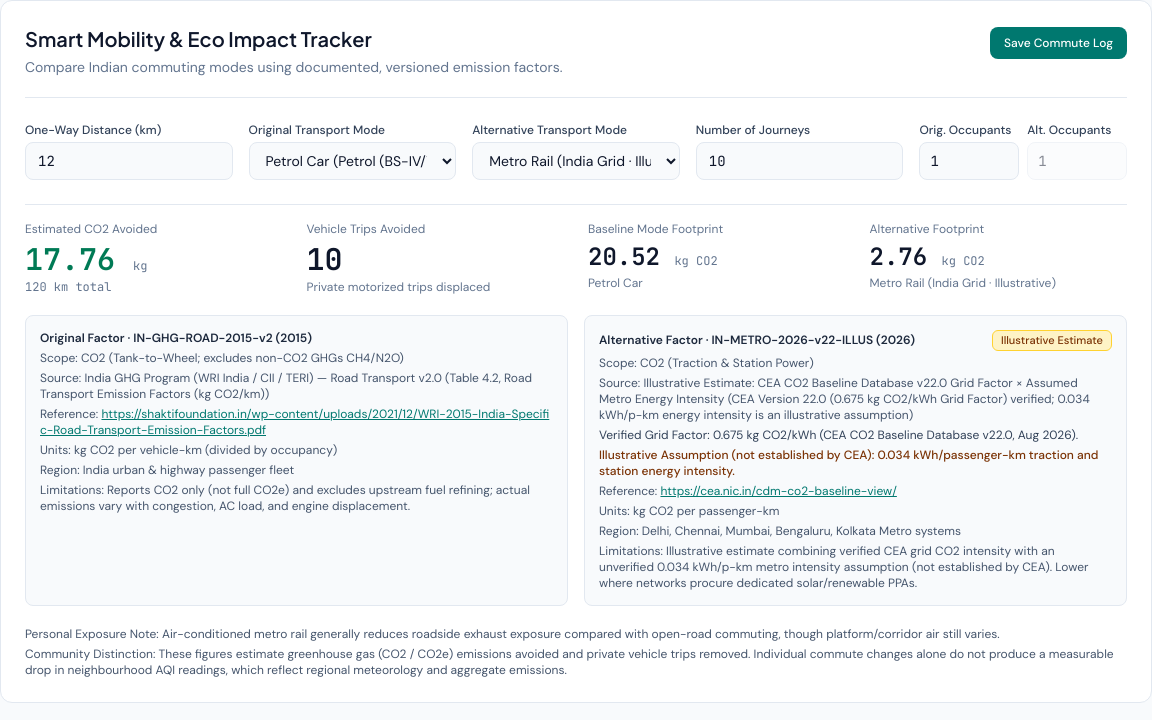
Test: EcoMobilityTracker interactions › saves the signed-in commute comparison and announces success
Replace the text in the number field labelled "One-Way Distance (km)" with "20" at (129, 161), box [25, 142, 233, 180]
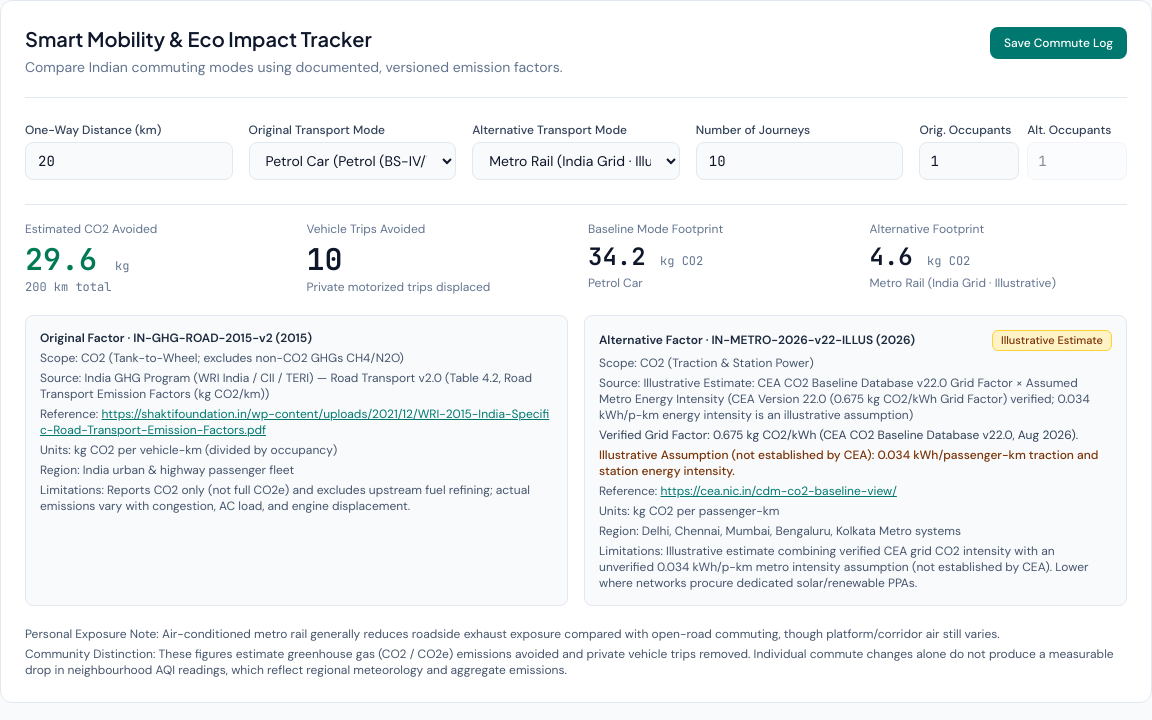
Replace the text in the number field labelled "Number of Journeys" with "2" at (800, 161), box [696, 142, 903, 180]
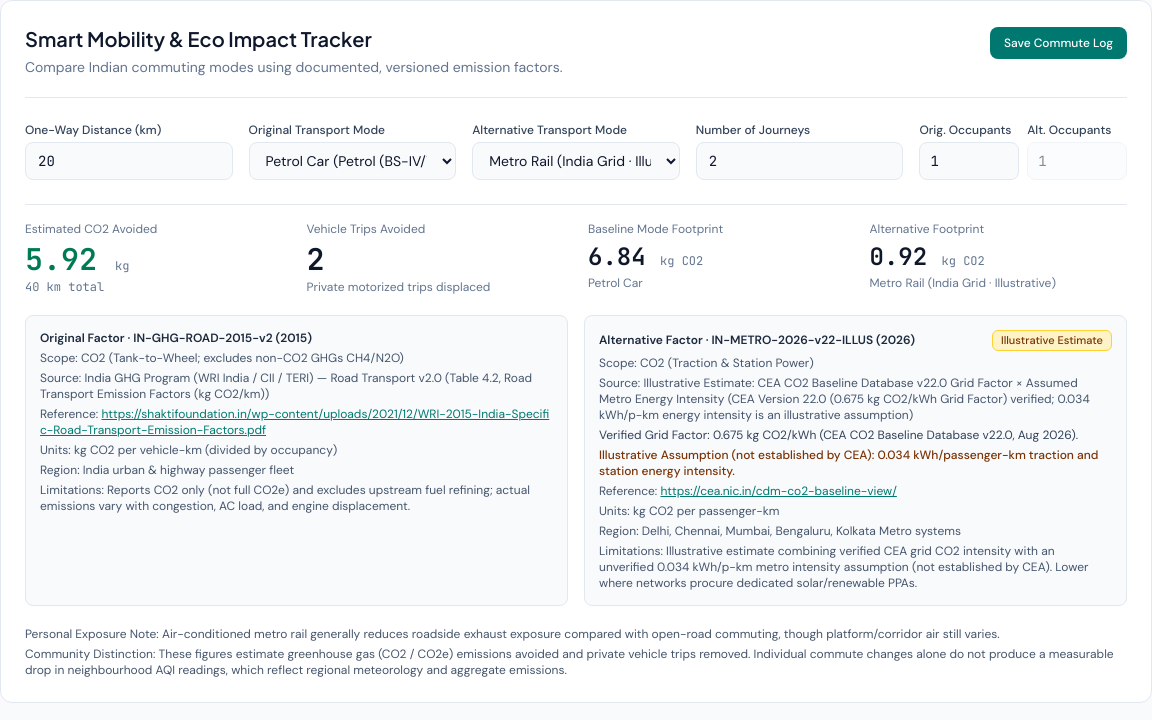
Click the button "Save Commute Log" at (1058, 43), box [990, 27, 1127, 59]
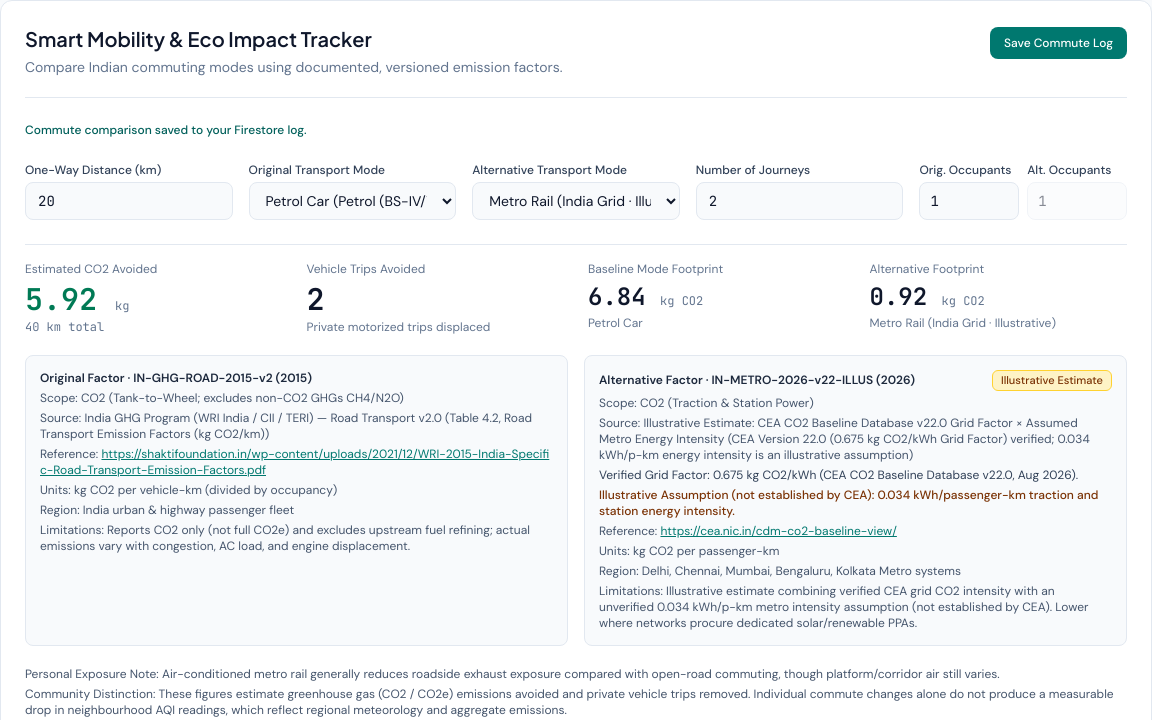
Result: the message reads "Commute comparison saved to your Firestore log." at [25, 122, 307, 138]
